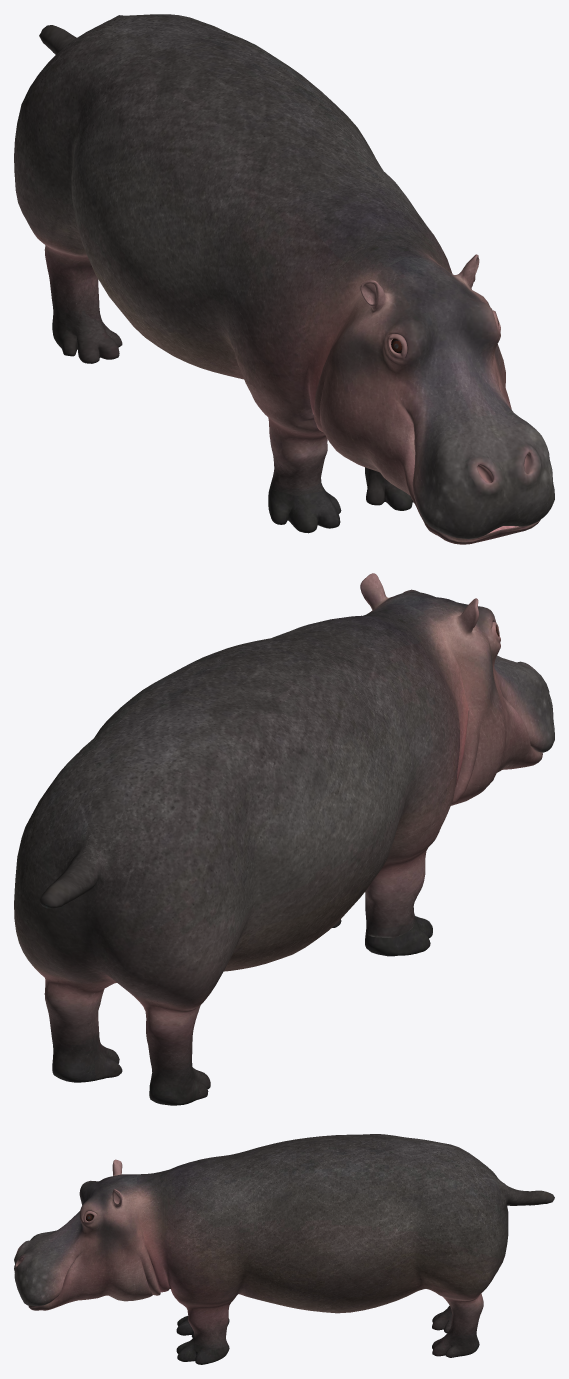
The model's file is Begemot.fbx.
3 views of the same model, one above another, from view 1: azimuth 30°, elevation 25°; view 2: azimuth 150°, elevation 25°; view 3: azimuth 270°, elevation 25° (orthographic). The views are drawn at different scales.
Parts seen in each view (by area): view 1: Hippopotamus_2; view 2: Hippopotamus_2; view 3: Hippopotamus_2.
Part boxes in pixels (box(x1,y1,x2,y2)): Hippopotamus_2: box(14, 14, 554, 544); Hippopotamus_2: box(14, 573, 554, 1105); Hippopotamus_2: box(14, 1134, 554, 1364).
Bounding box in the file's own units: 5352 × 6977 × 17012.
Materials: 9 (9 with a texture image).
